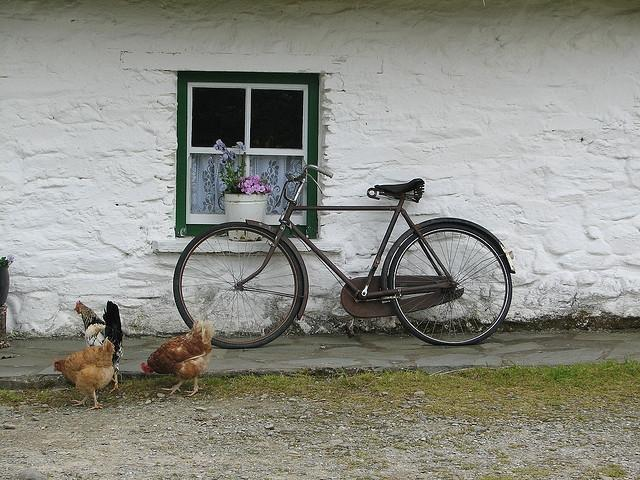bicycle: (173, 159, 520, 351)
